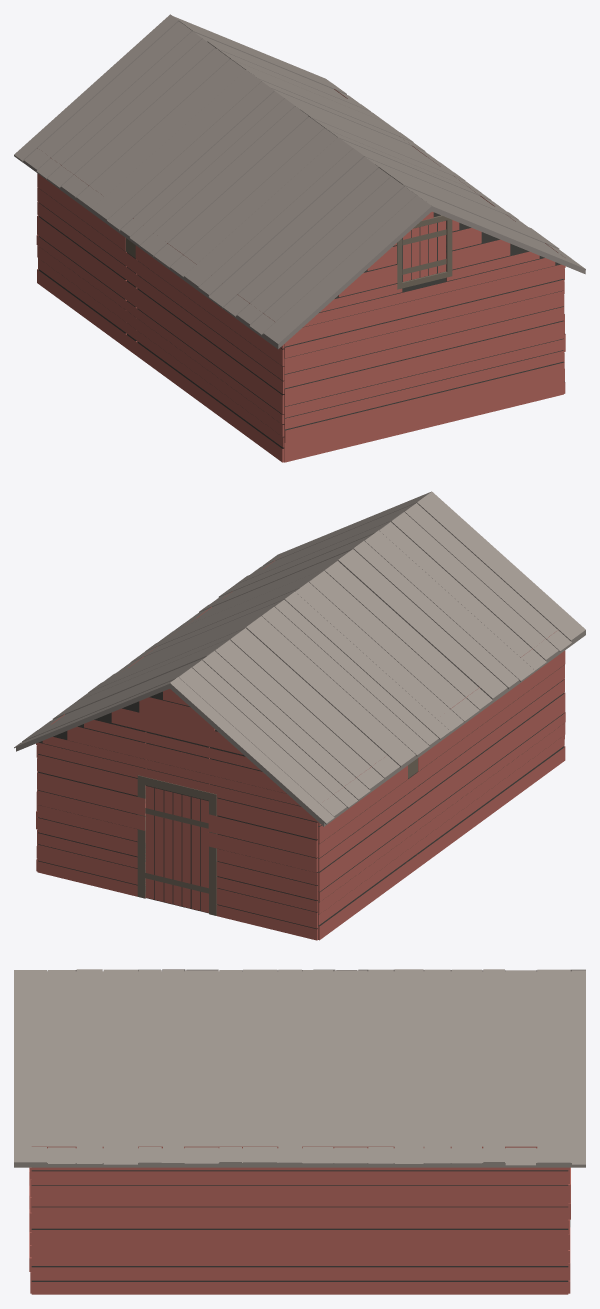
Rendered from recon_1835_south_w2_026__inferred_1835.glb.
The picture shows the model from 3 angles, top to bottom: view 1: azimuth 30°, elevation 25°; view 2: azimuth 150°, elevation 25°; view 3: azimuth 270°, elevation 25°; orthographic projection. The views are drawn at different scales.
Visible parts, largest first — view 1: recon_1835_south_w2_026__inferred_1835; view 2: recon_1835_south_w2_026__inferred_1835; view 3: recon_1835_south_w2_026__inferred_1835.
Part boxes in pixels (x1=…): recon_1835_south_w2_026__inferred_1835: x1=14, y1=14, x2=585, y2=462; recon_1835_south_w2_026__inferred_1835: x1=14, y1=491, x2=585, y2=940; recon_1835_south_w2_026__inferred_1835: x1=14, y1=969, x2=585, y2=1294.
Bounding box in the file's own units: 6.64 × 4.64 × 9.62.
